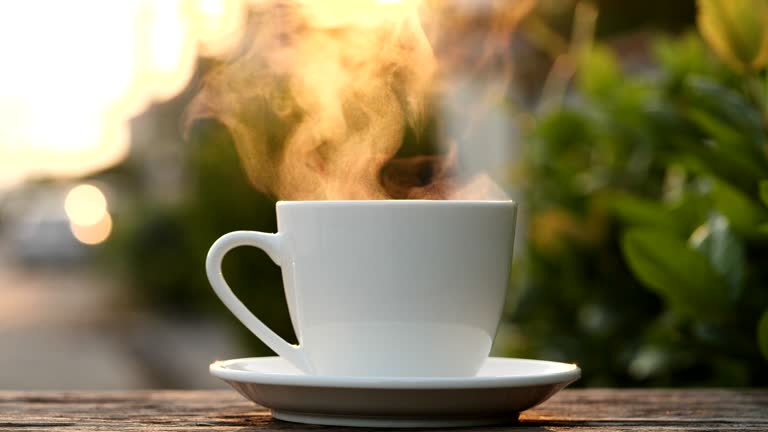Cup: (186, 176, 628, 421)
